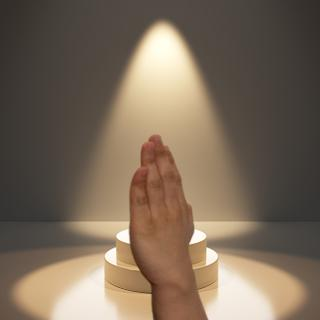RIGHT: (117, 127, 201, 293)
